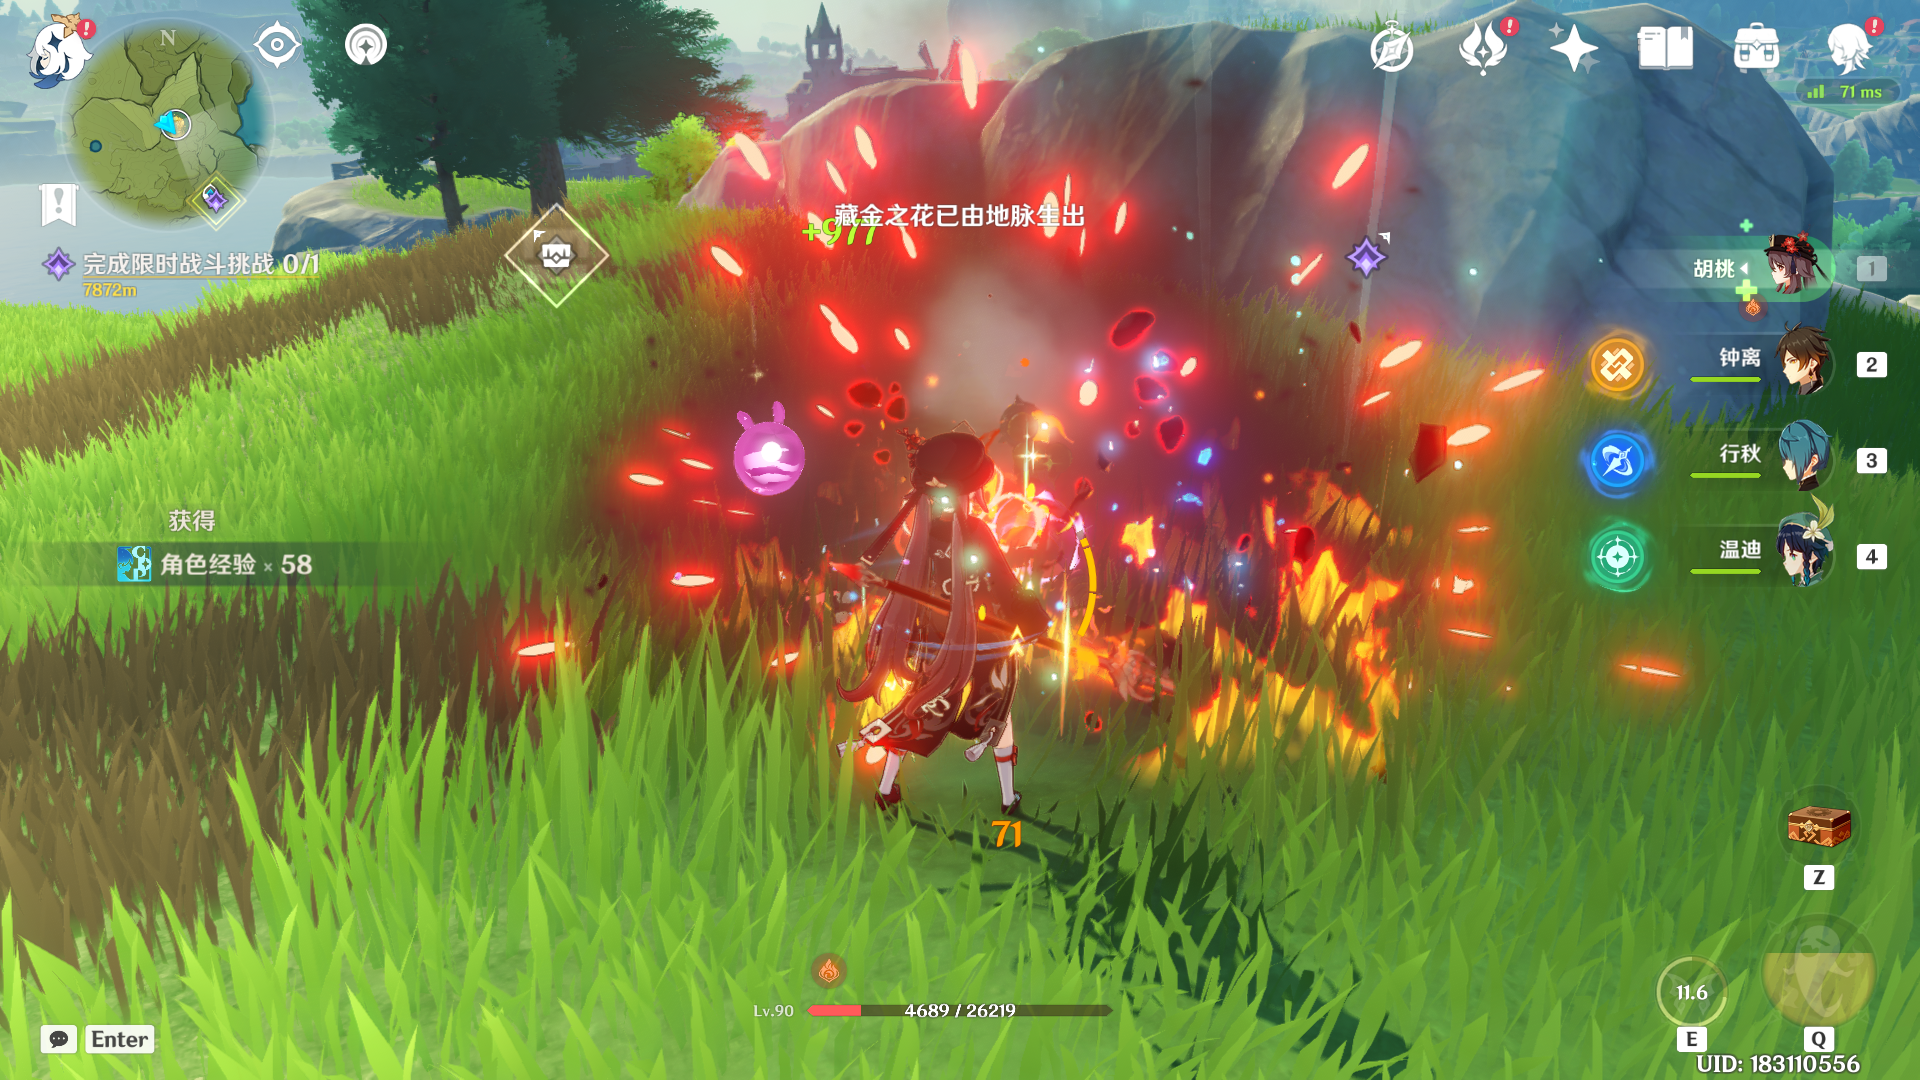character: (796, 413, 1083, 870)
